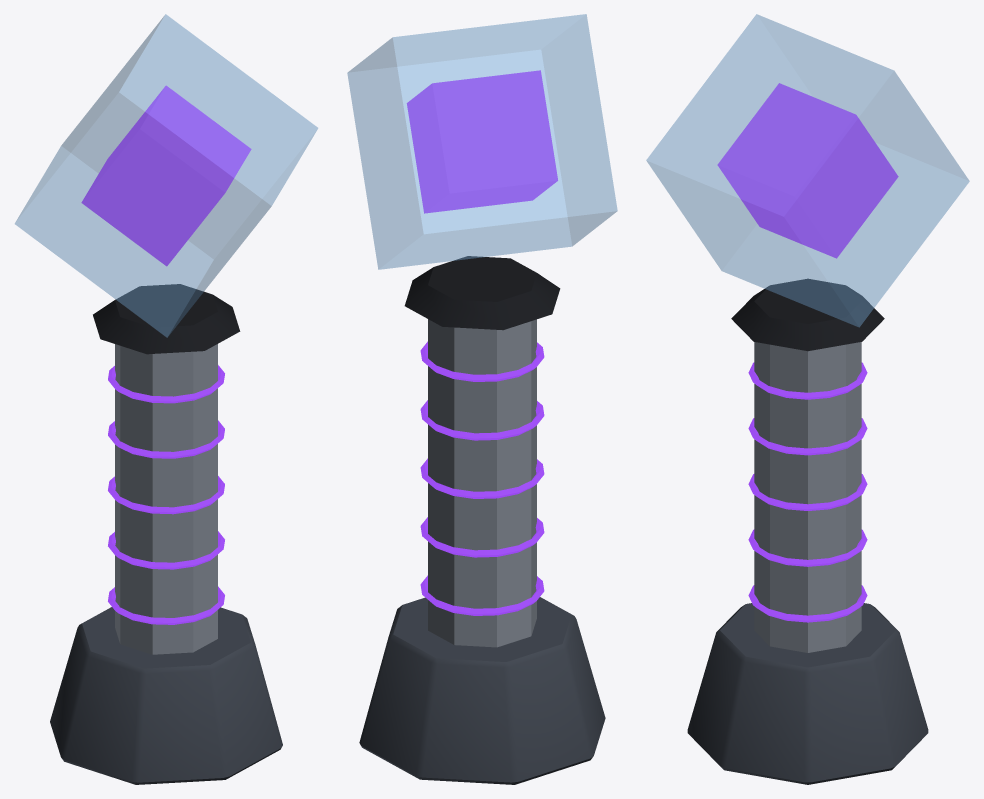
The model's file is holo_holo_emitter_pillar.glb.
3 renders of one model, left to right at view 1: azimuth 30°, elevation 25°; view 2: azimuth 150°, elevation 25°; view 3: azimuth 270°, elevation 25°, orthographic. The views are drawn at different scales.
Parts seen in each view (by area): view 1: holo_holo_emitter_pillar; view 2: holo_holo_emitter_pillar; view 3: holo_holo_emitter_pillar.
Boxes of the visible parts, box(x1,y1,x2,y2) form: holo_holo_emitter_pillar: box(15, 14, 317, 784); holo_holo_emitter_pillar: box(347, 14, 617, 784); holo_holo_emitter_pillar: box(646, 14, 969, 784).
Bounding box in the file's own units: 0.8469 × 1.97 × 0.8429.
